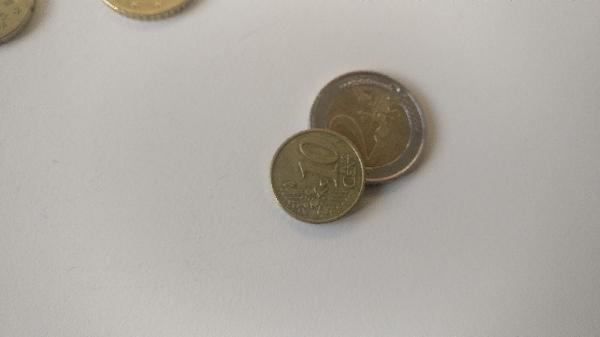Ten Cent: (269, 130, 368, 226)
Two Euro: (309, 70, 425, 191)
